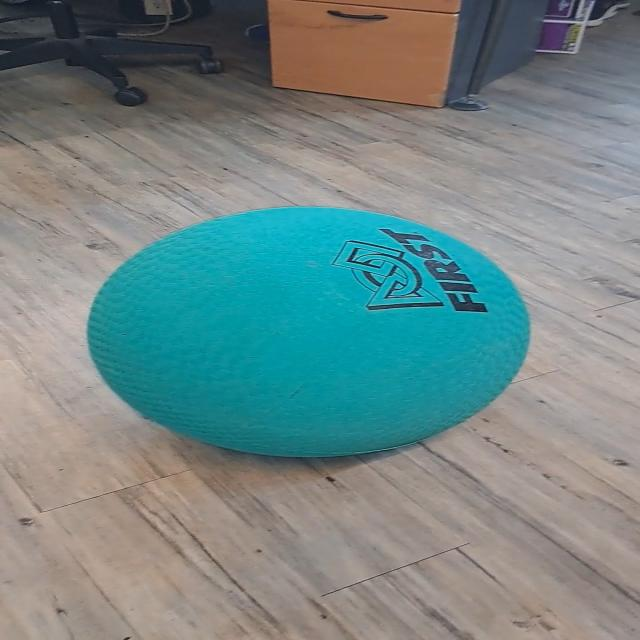ALGAE: (84, 204, 532, 459)
